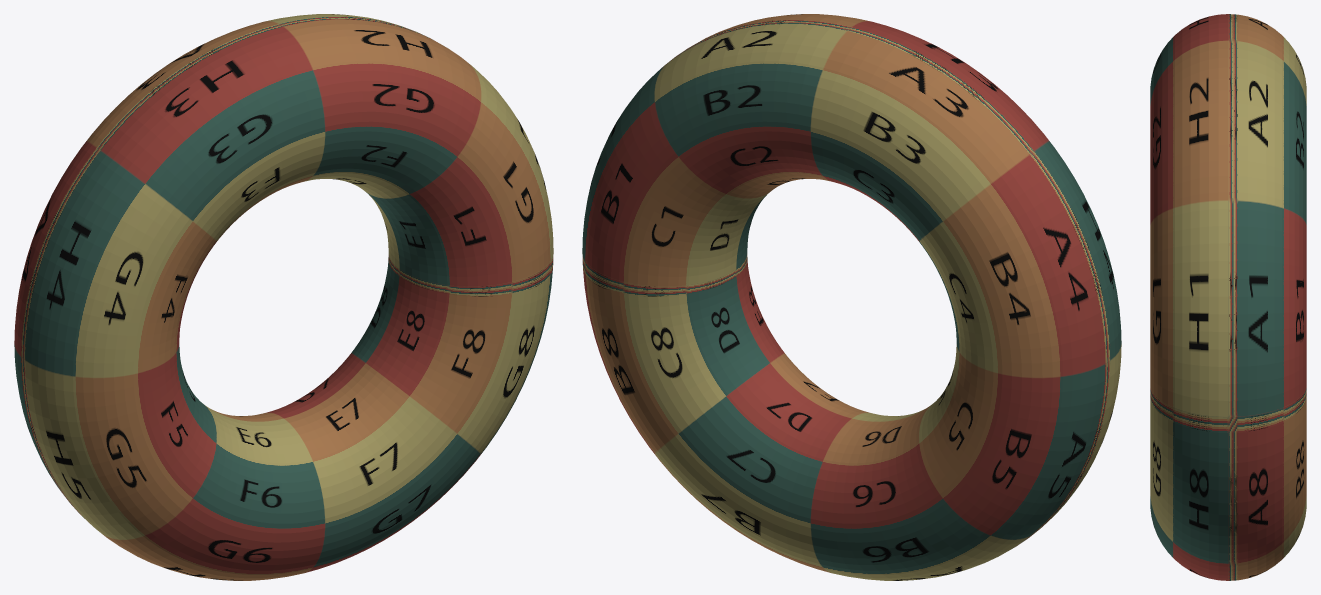
The model's file is texture_torus_R1_r3.glb.
3 renders of one model, left to right at view 1: azimuth 30°, elevation 25°; view 2: azimuth 150°, elevation 25°; view 3: azimuth 270°, elevation 25°, orthographic. The views are drawn at different scales.
Visible parts, largest first — view 1: world; view 2: world; view 3: world.
Part boxes in pixels (left/top/right/bottom): world: left=14, top=14, right=553, bottom=580; world: left=582, top=14, right=1121, bottom=580; world: left=1150, top=14, right=1306, bottom=580.
Size of the model in its own units: 16.89 by 16.89 by 4.66.
Materials: 1 (1 with a texture image).
